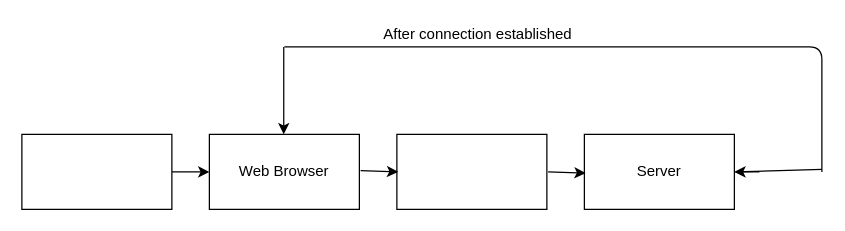
This 845x231 diagram has some shape labels left out. Each missing label, with the centre of its shape:
"DNS Server" goes at point 471,171.
"User" goes at point 96,171.
